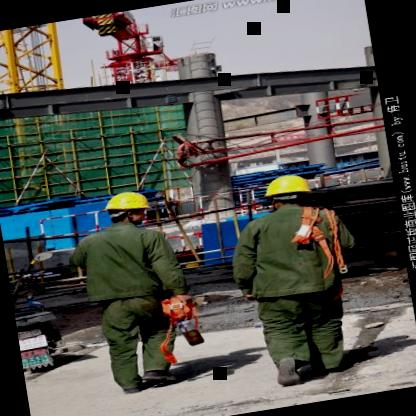helmet: (258, 167, 318, 218), (97, 183, 158, 232)
